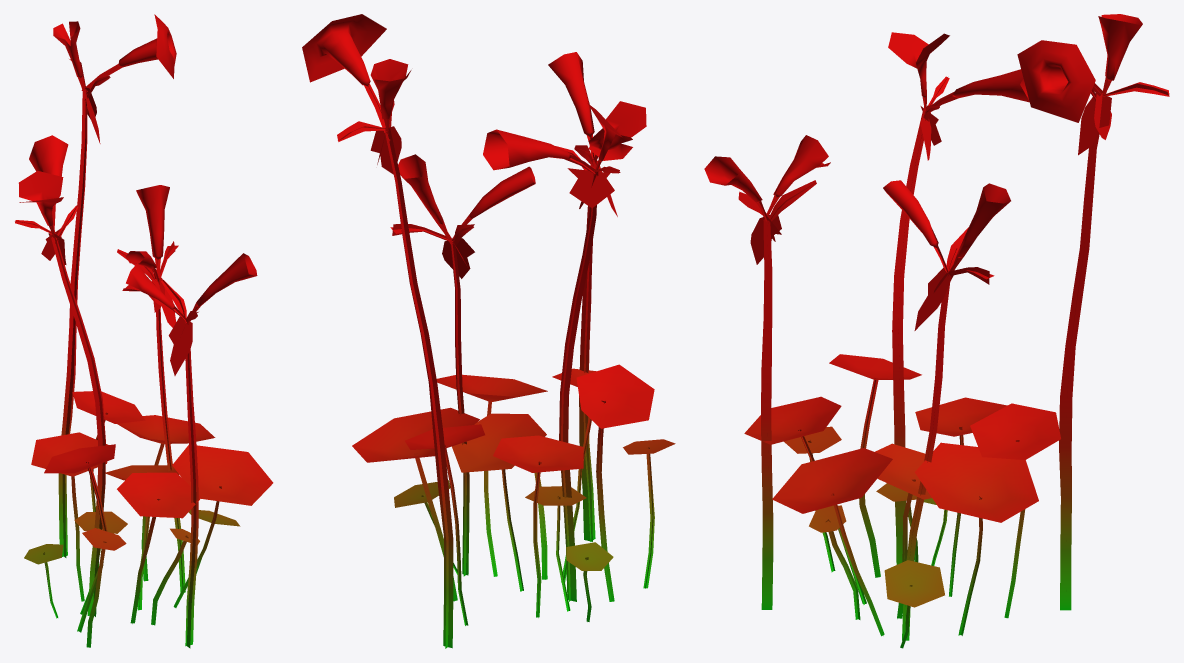
The model's file is Var1_LOD0 1.fbx.
The picture shows the model from 3 angles, left to right: view 1: azimuth 30°, elevation 25°; view 2: azimuth 150°, elevation 25°; view 3: azimuth 270°, elevation 25°; orthographic projection. The views are drawn at different scales.
Parts seen in each view (by area): view 1: _c53a_Var1_LOD0; view 2: _c53a_Var1_LOD0; view 3: _c53a_Var1_LOD0.
Part boxes in pixels (left/top/right/bottom): _c53a_Var1_LOD0: left=15, top=14, right=273, bottom=648; _c53a_Var1_LOD0: left=302, top=14, right=675, bottom=648; _c53a_Var1_LOD0: left=704, top=14, right=1169, bottom=648.
Size of the model in its own units: 14.27 by 32.36 by 21.71.
